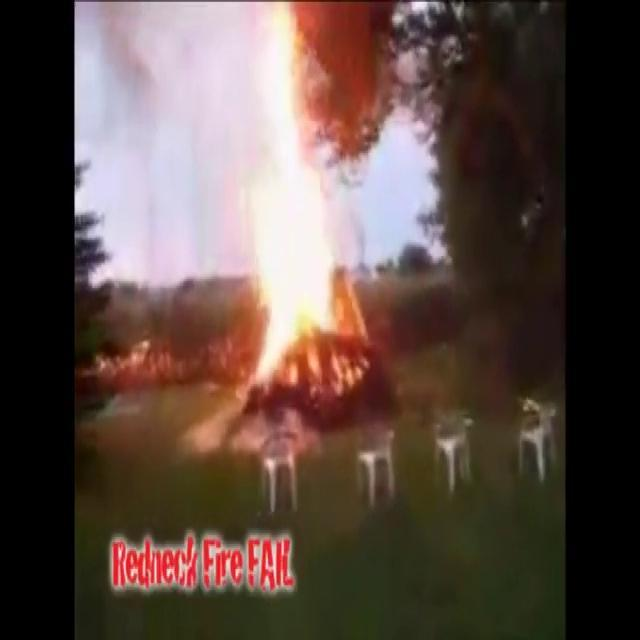Smoke: (220, 107, 368, 401)
